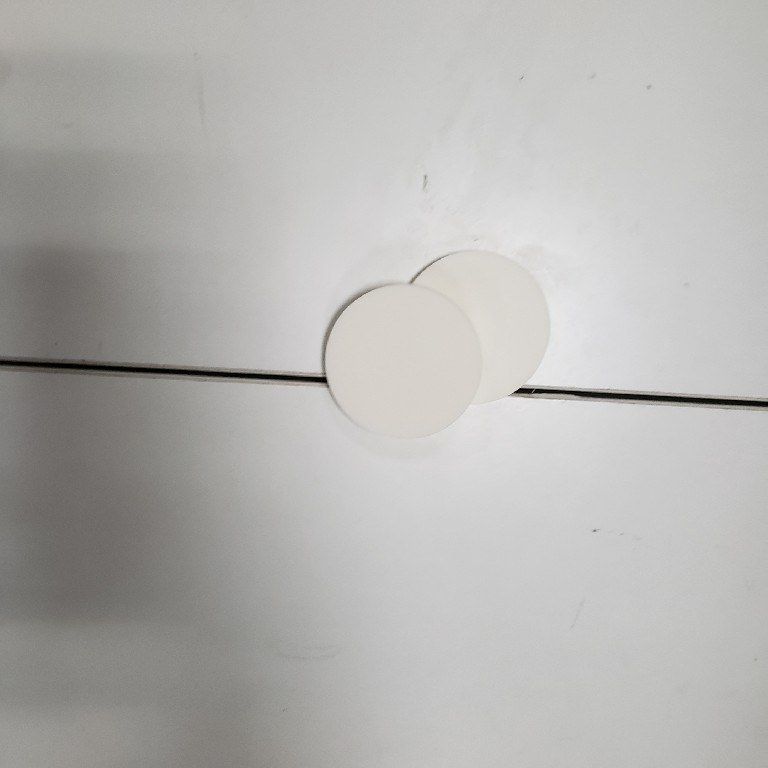ceramics: (316, 246, 555, 446)
